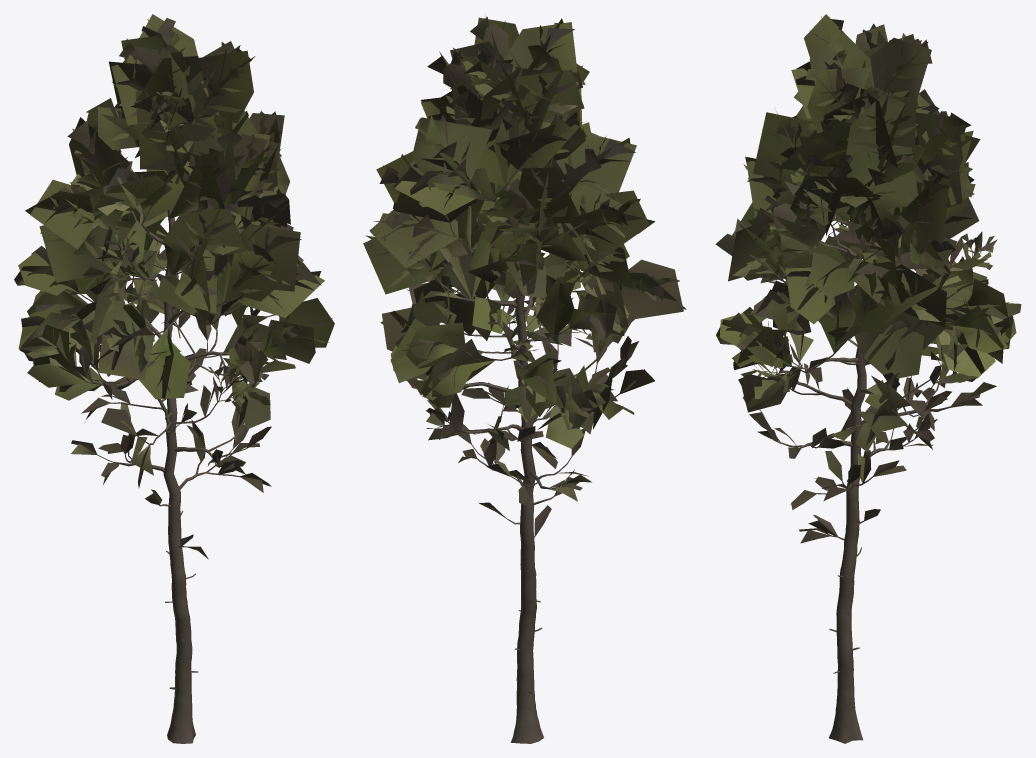
File: SM_BlackAlder_Forest_01_PP_LOD4.gltf
3 views of the same model, side by side, from view 1: azimuth 30°, elevation 25°; view 2: azimuth 150°, elevation 25°; view 3: azimuth 270°, elevation 25° (orthographic). The views are drawn at different scales.
Parts seen in each view (by area): view 1: SM_BlackAlder_Forest_01_PP; view 2: SM_BlackAlder_Forest_01_PP; view 3: SM_BlackAlder_Forest_01_PP.
Boxes of the visible parts, x1=… form: SM_BlackAlder_Forest_01_PP: x1=14, y1=14, x2=334, y2=743; SM_BlackAlder_Forest_01_PP: x1=363, y1=16, x2=686, y2=743; SM_BlackAlder_Forest_01_PP: x1=715, y1=14, x2=1021, y2=743.
Size of the model in its own units: 8.37 by 21.04 by 8.21.
Materials: 3 (3 with a texture image).
